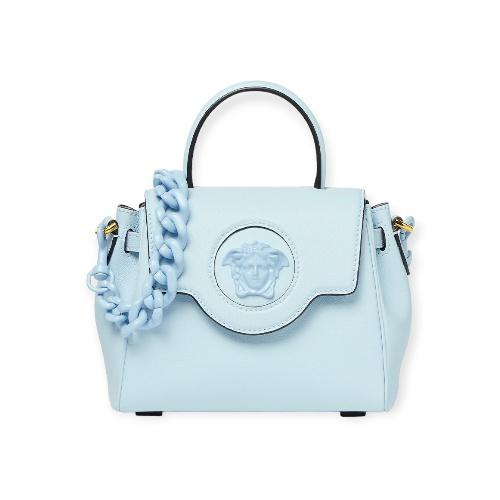VERSACE: (209, 216, 302, 314)
